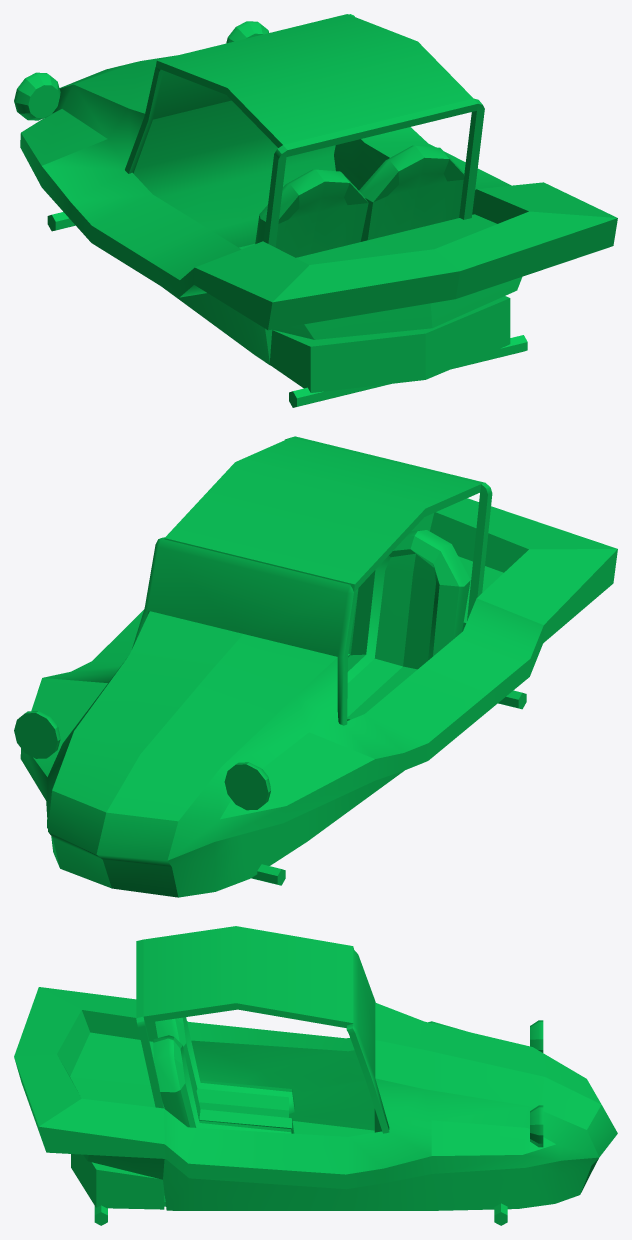
Rendered from Car_Buggy_Body.fbx.
3 views of the same model, one above another, from view 1: azimuth 30°, elevation 25°; view 2: azimuth 150°, elevation 25°; view 3: azimuth 270°, elevation 25° (orthographic). The views are drawn at different scales.
Parts seen in each view (by area): view 1: Car_Buggy_Body; view 2: Car_Buggy_Body; view 3: Car_Buggy_Body.
Part boxes in pixels (<box>): Car_Buggy_Body: <box>14,14,617,407</box>; Car_Buggy_Body: <box>14,436,617,897</box>; Car_Buggy_Body: <box>14,926,617,1225</box>.
Size of the model in its own units: 25.71 by 17.99 by 46.28.
